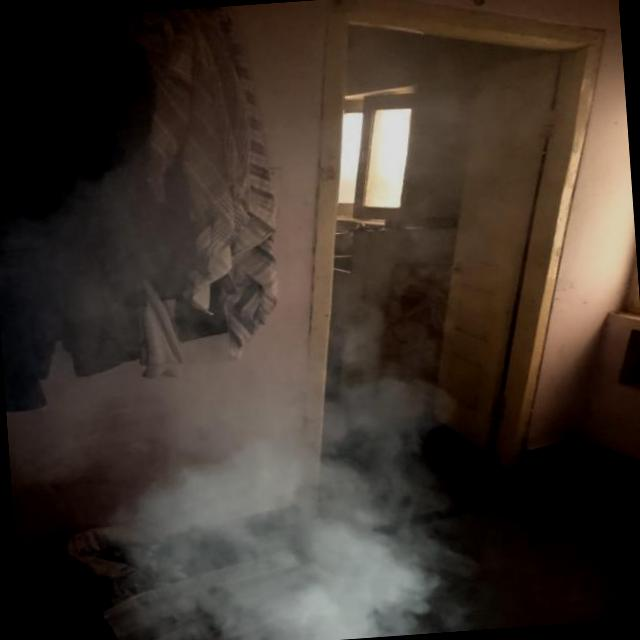smoke: (136, 397, 409, 640)
